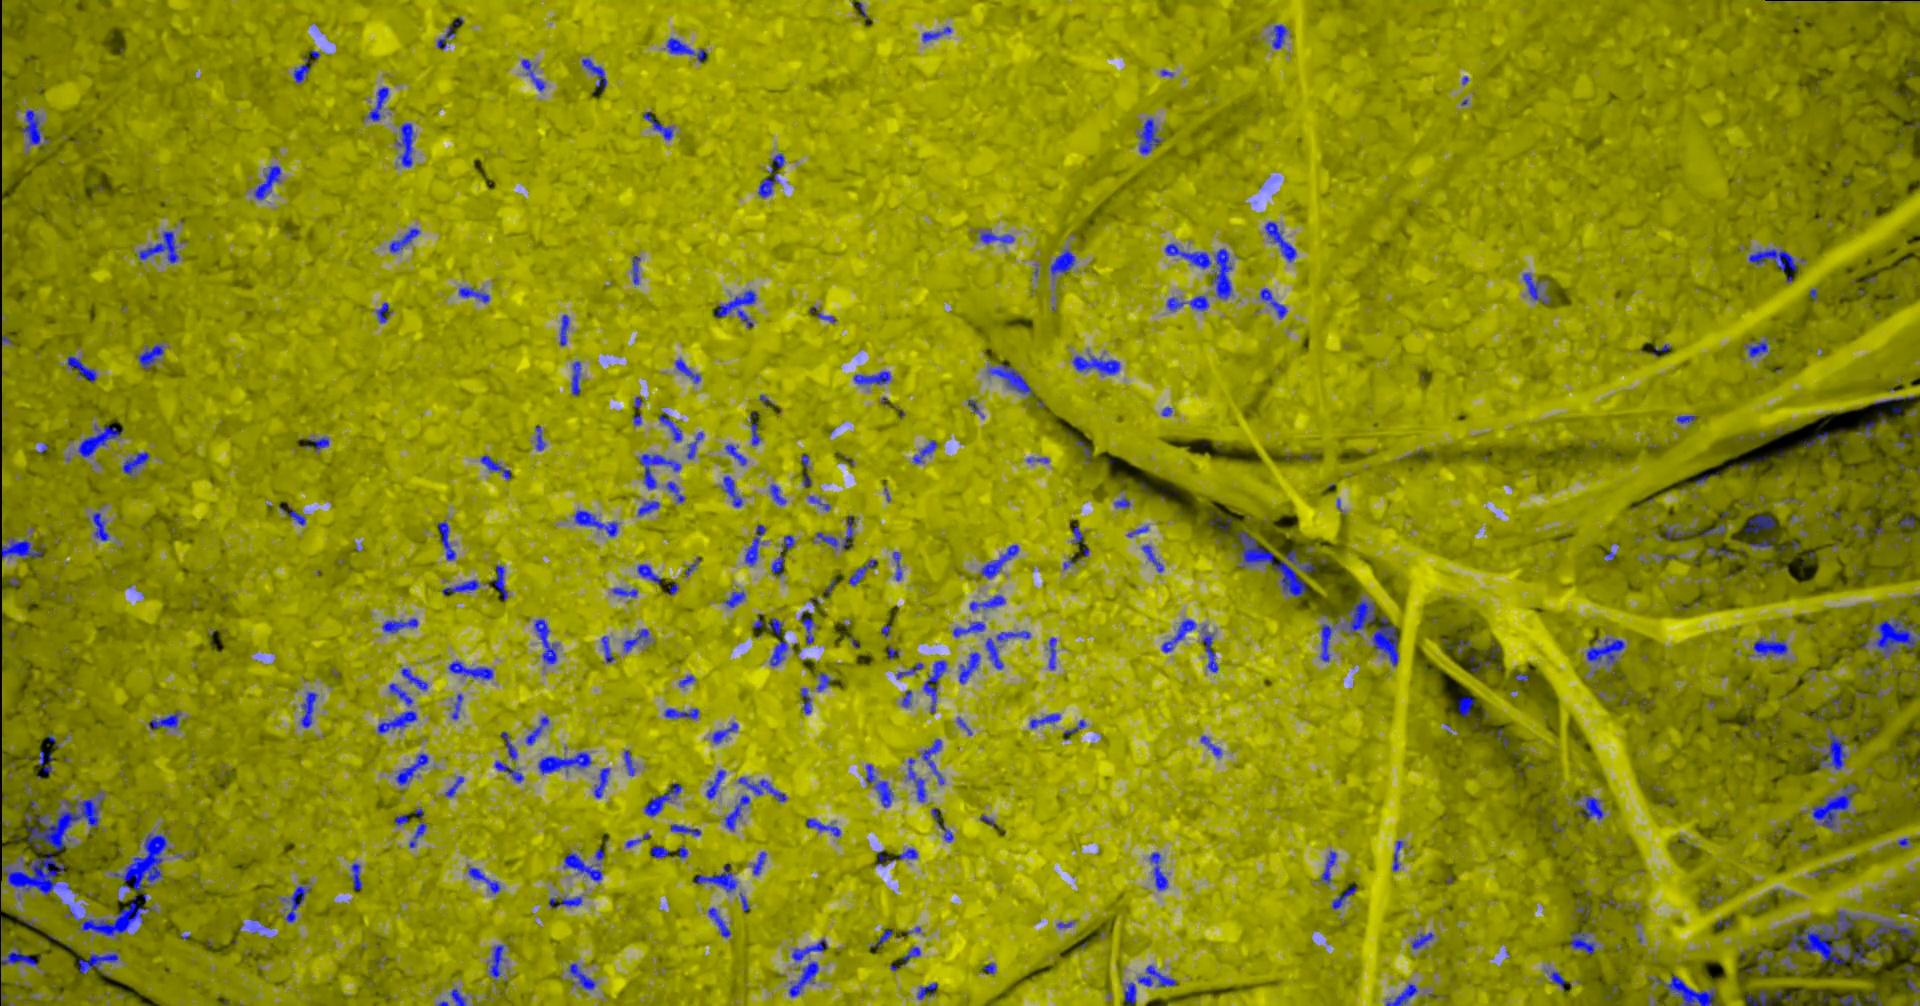ant: (1164, 243, 1232, 298), (77, 895, 152, 936), (1811, 782, 1859, 828), (1648, 974, 1717, 1005), (1873, 615, 1919, 658), (0, 918, 41, 967), (752, 616, 787, 666), (987, 362, 1035, 395), (77, 424, 123, 457), (715, 290, 756, 326), (639, 453, 681, 489), (1811, 728, 1846, 768), (563, 848, 604, 882), (815, 514, 855, 549), (137, 230, 178, 263), (980, 544, 1018, 578), (1263, 221, 1297, 260), (737, 776, 786, 801), (922, 661, 946, 713), (692, 864, 737, 892), (537, 751, 590, 774), (644, 782, 681, 815), (1161, 619, 1196, 652), (865, 763, 891, 807), (1585, 636, 1624, 666), (281, 883, 310, 922), (573, 511, 617, 536), (1749, 248, 1797, 271), (919, 738, 943, 784), (665, 37, 707, 62), (789, 962, 818, 997), (22, 109, 50, 146), (535, 619, 557, 663), (395, 753, 428, 784), (771, 533, 794, 575), (77, 951, 118, 974), (253, 165, 279, 199), (724, 794, 749, 829), (377, 710, 417, 733), (1072, 354, 1119, 373), (1258, 287, 1288, 318), (1523, 272, 1550, 304), (643, 111, 673, 138), (66, 354, 97, 382), (0, 537, 42, 558), (448, 661, 493, 680), (467, 868, 500, 893), (744, 525, 764, 565), (1138, 118, 1161, 154), (791, 939, 827, 962), (1137, 965, 1176, 986), (582, 57, 606, 90), (395, 122, 413, 166), (1049, 248, 1076, 277), (1201, 625, 1218, 672), (907, 758, 924, 801), (931, 807, 952, 842), (479, 455, 510, 479), (848, 559, 876, 586), (568, 963, 596, 989), (367, 86, 389, 121), (389, 227, 419, 251), (521, 58, 543, 90), (957, 652, 980, 683), (408, 807, 425, 847), (437, 521, 455, 560), (707, 907, 730, 937), (1385, 983, 1417, 1005), (136, 344, 163, 370), (1149, 852, 1167, 890), (121, 451, 149, 475), (622, 627, 650, 652), (524, 716, 549, 744), (658, 412, 681, 441), (494, 760, 523, 782), (721, 475, 742, 507), (1576, 795, 1603, 819), (1166, 295, 1208, 310), (300, 691, 317, 727), (805, 818, 841, 836), (705, 768, 725, 799), (676, 358, 700, 384), (1570, 930, 1595, 954), (1752, 638, 1787, 655), (1743, 514, 1775, 533), (1142, 544, 1163, 572), (969, 594, 1004, 611), (985, 636, 1003, 669), (912, 439, 936, 464), (441, 579, 479, 594), (1331, 885, 1356, 908), (400, 668, 427, 690), (149, 711, 180, 729), (757, 171, 778, 197), (711, 721, 737, 743), (1319, 850, 1336, 883), (491, 564, 507, 600), (1661, 525, 1693, 541), (389, 682, 411, 705), (91, 512, 109, 541), (292, 57, 312, 83), (853, 370, 890, 384), (921, 25, 951, 42), (458, 286, 489, 302), (593, 767, 610, 798), (488, 944, 503, 977), (686, 431, 703, 459), (279, 506, 305, 525), (636, 564, 662, 583), (952, 621, 984, 636), (1319, 622, 1332, 661), (1799, 431, 1829, 447), (500, 730, 517, 760), (799, 610, 813, 644), (382, 619, 417, 633), (895, 662, 922, 680), (1200, 735, 1222, 757), (1029, 713, 1059, 728), (436, 25, 455, 50), (809, 306, 836, 323), (724, 445, 745, 465), (1063, 719, 1084, 739), (869, 929, 891, 948), (1270, 24, 1288, 48), (549, 895, 582, 908), (1873, 395, 1914, 405), (444, 775, 463, 796), (979, 231, 1015, 243), (1745, 339, 1768, 357), (1745, 989, 1771, 1005), (996, 630, 1030, 641), (665, 481, 684, 502), (1208, 512, 1230, 528), (723, 591, 745, 607), (1410, 932, 1432, 949), (601, 635, 615, 662), (625, 832, 649, 847), (1392, 840, 1403, 871), (1457, 696, 1474, 716), (663, 708, 698, 718), (916, 982, 937, 998), (570, 361, 580, 395), (808, 495, 830, 511), (1699, 523, 1726, 536), (902, 946, 919, 965), (38, 749, 52, 774), (752, 851, 766, 875), (375, 302, 391, 323), (1855, 420, 1876, 437), (670, 823, 700, 835), (1448, 639, 1469, 654), (1468, 655, 1490, 671), (799, 687, 811, 713), (305, 437, 328, 451), (767, 152, 783, 171), (770, 484, 785, 504), (637, 500, 659, 514), (891, 551, 902, 580), (968, 399, 984, 417), (1048, 636, 1057, 669), (450, 987, 466, 1005), (815, 672, 830, 691), (451, 694, 462, 719), (1549, 970, 1564, 989), (1123, 982, 1135, 1005), (1747, 537, 1775, 547), (1705, 546, 1733, 556), (559, 314, 568, 345), (1837, 993, 1862, 1005), (350, 862, 361, 889), (894, 847, 917, 859), (612, 587, 637, 597), (623, 749, 634, 775), (876, 850, 893, 865), (535, 426, 545, 450), (1496, 728, 1509, 747), (650, 845, 669, 857), (1072, 525, 1082, 547), (632, 255, 640, 285), (1865, 991, 1881, 1005), (1898, 514, 1915, 527), (678, 674, 695, 687), (750, 422, 759, 445), (392, 813, 408, 826), (902, 688, 910, 708), (1112, 497, 1129, 507), (1676, 415, 1697, 423)
